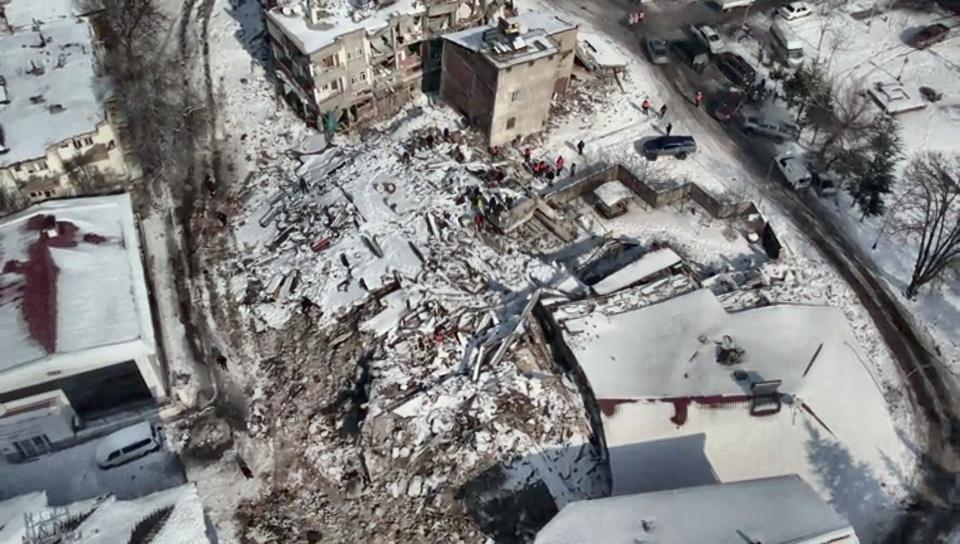kapali: (120, 106, 371, 543)
